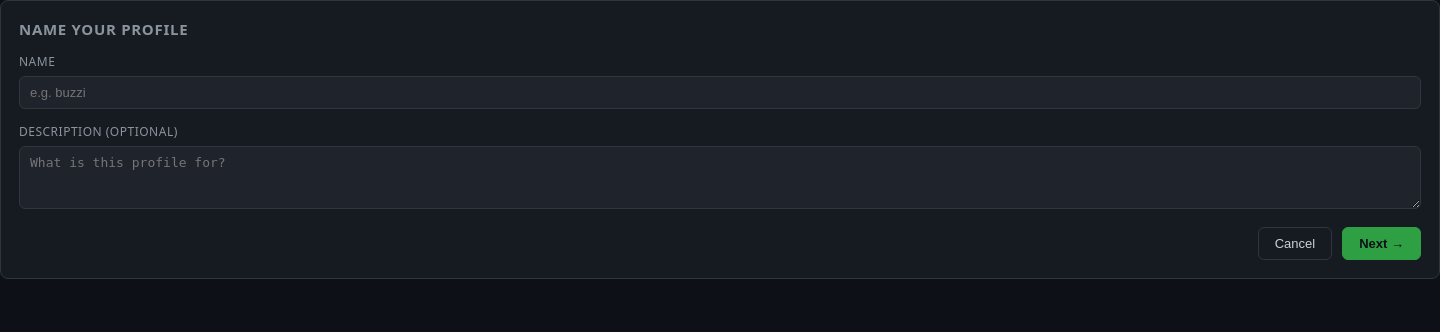
Scenario: NameStep error feedback › correcting an empty submission clears the error region
Step 1. Click the button with test id "wizard-next" → click(1382, 244), box [1342,227,1421,260]
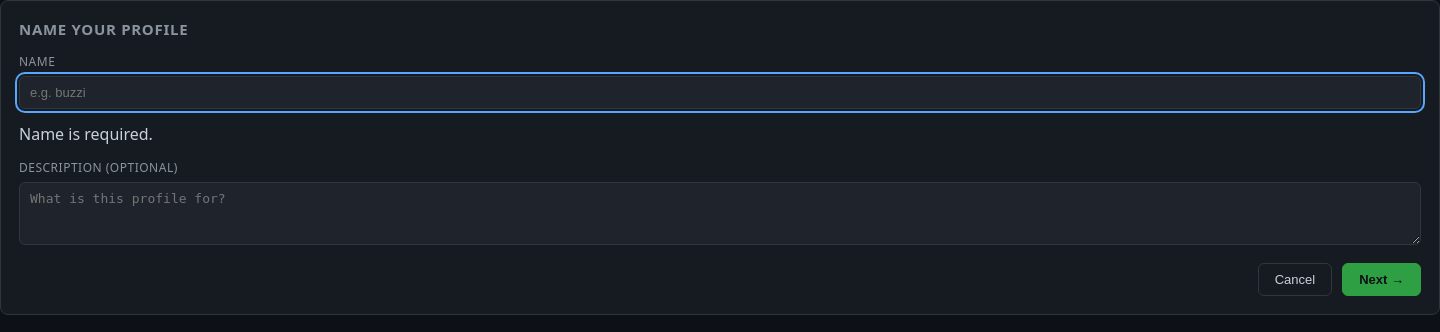
Expected: the message "Name is required." is shown, [19,123,153,145]
Step 2. Type "fixed" into the field with test id "wizard-name-input" → (720, 92), box [19,76,1421,109]
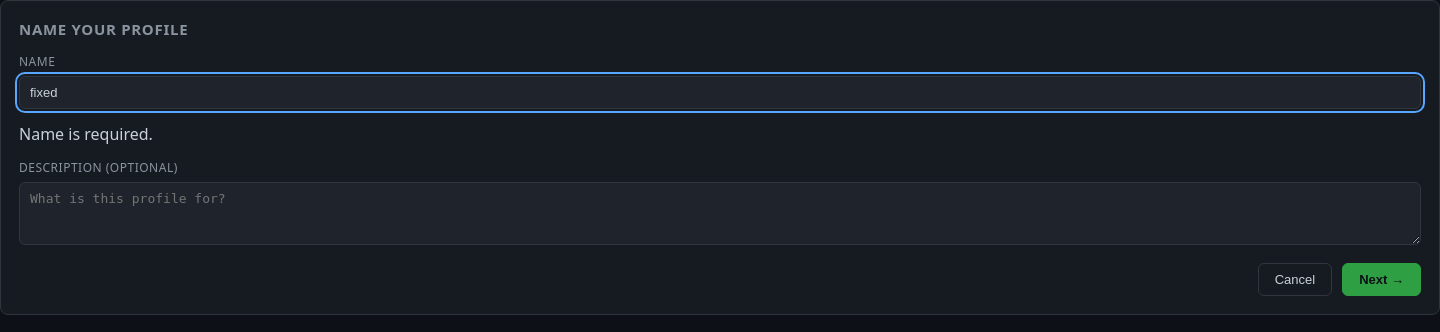
Step 3. Click the button with test id "wizard-next" → click(1382, 280), box [1342,263,1421,296]
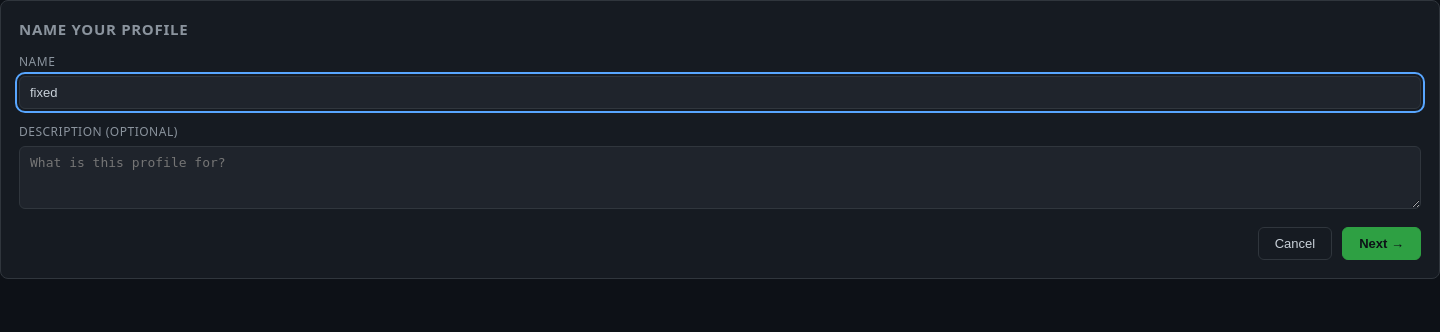
Expected: the message "Name is required." is gone
